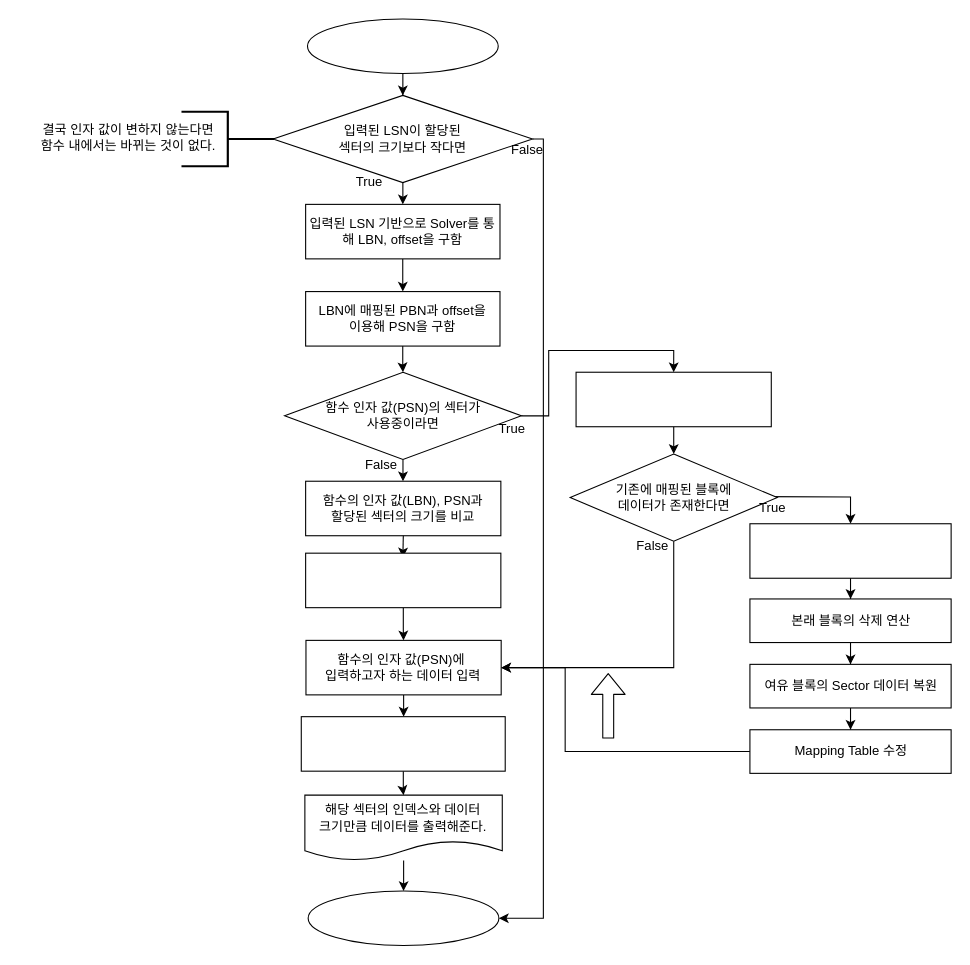
The diagram is 970 pixels wide and 965 high, and some of its shapes have lost their labels. Here are the shapes that lost their labels. From the top down, the centre of each, then its label:
(x=402, y=46): 플래시 메모리 쓰기 함수 호출
(x=673, y=399): 한번도 사용하지 않은, 초기화 된 여유 블록 색인
(x=850, y=550): 현재 호출된 PSN을 제외한 블록 내 데이터 여유 블록에 복사
(x=403, y=580): 입력된 LSN을 기반으로 Mapping 된 PSN 계산
(x=402, y=743): 함수 인자 값(PSN)의 해당 섹터의 데이터 크기 변수에 크기 입력
(x=403, y=918): 플래시 메모리 쓰기 함수 종료
